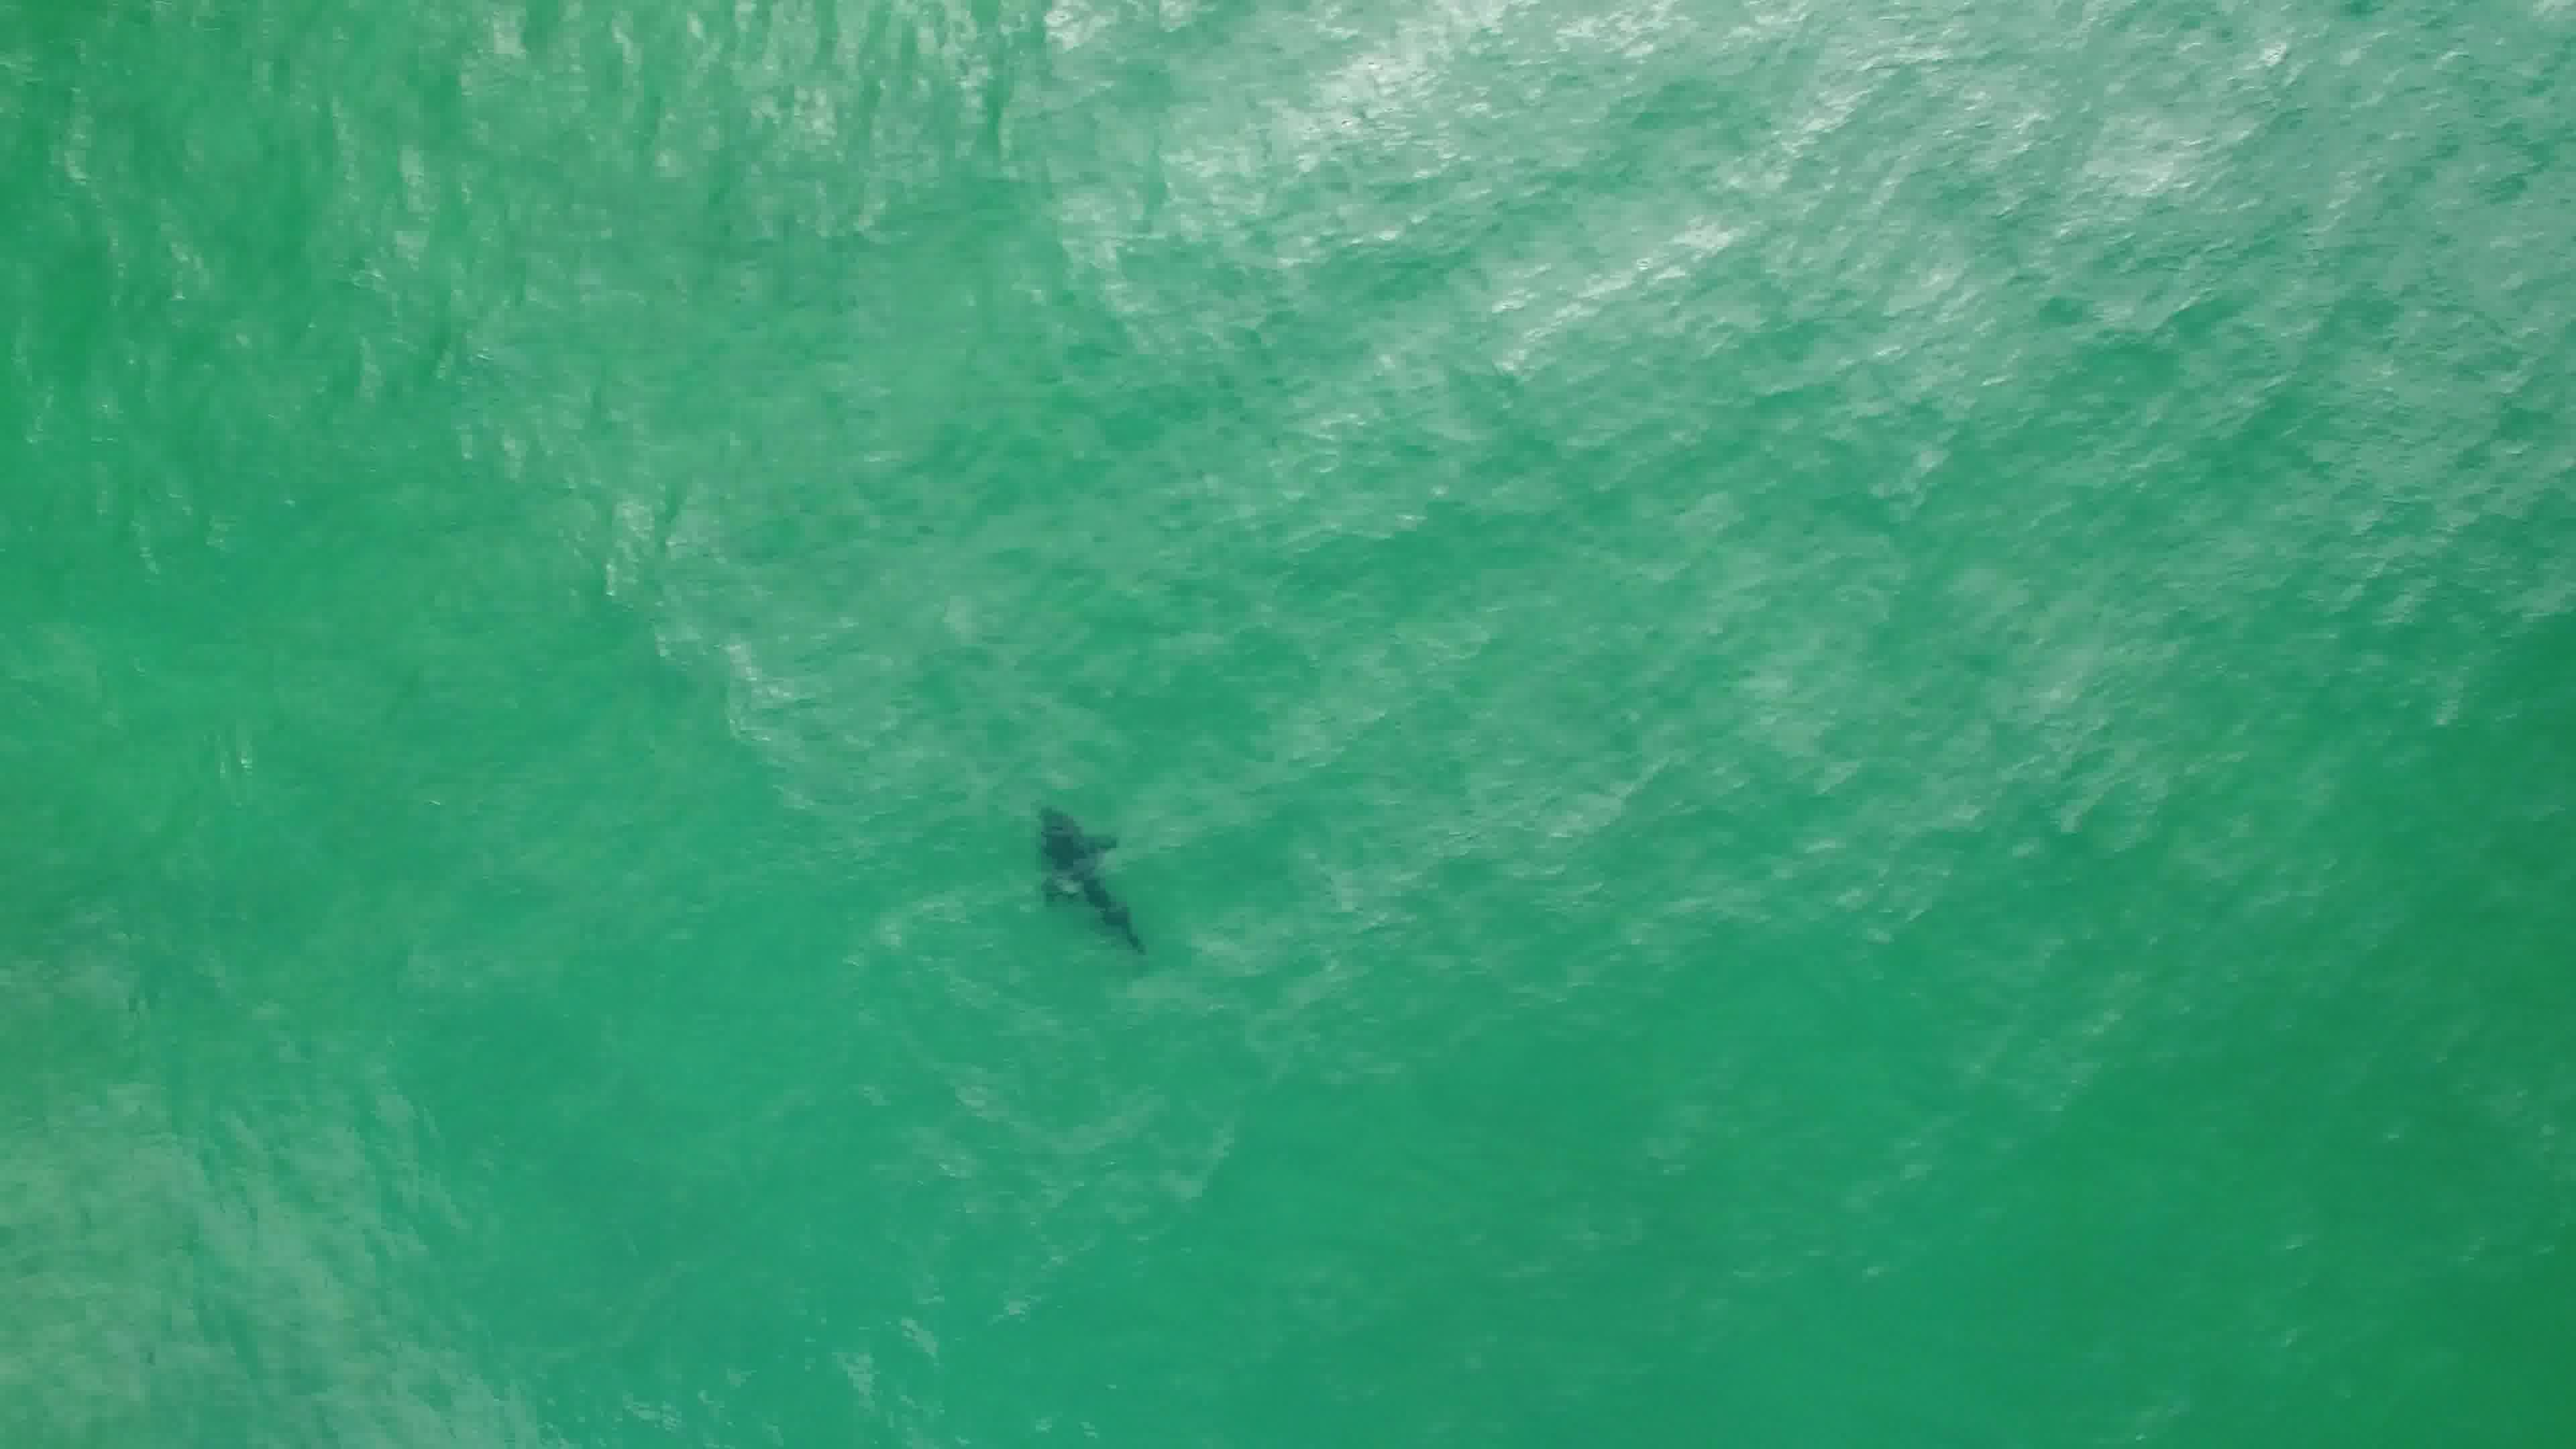shark: (1024, 798, 1154, 962)
